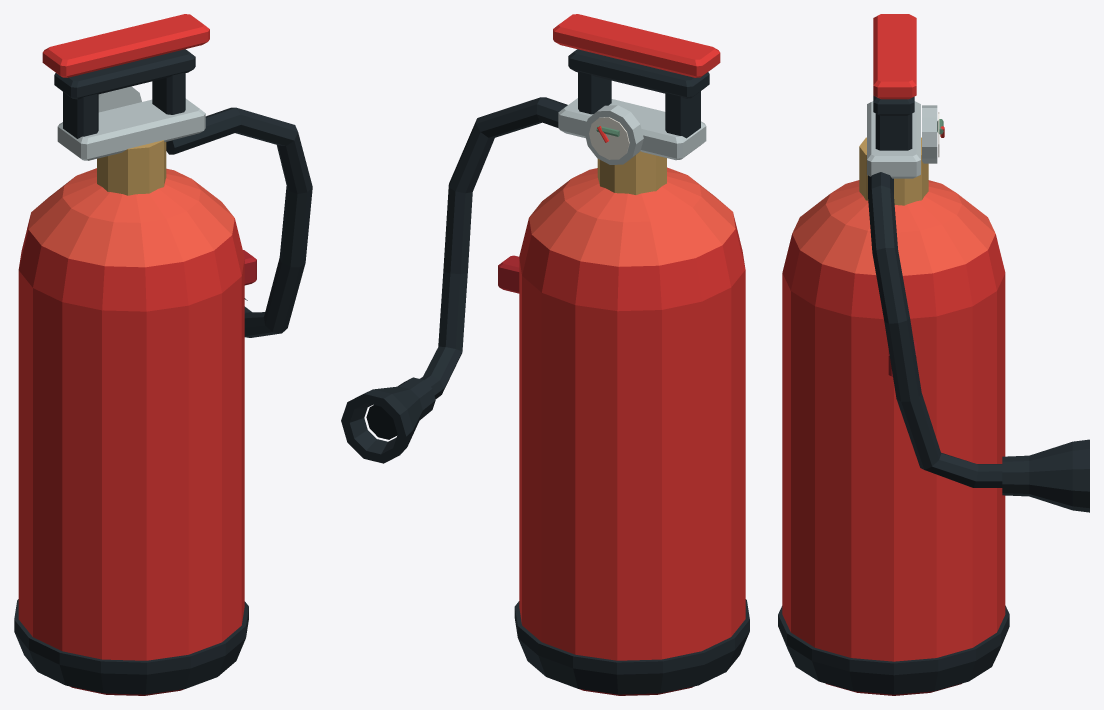
The model's file is fire-extinguisher.glb.
The picture shows the model from 3 angles, left to right: view 1: azimuth 30°, elevation 25°; view 2: azimuth 150°, elevation 25°; view 3: azimuth 270°, elevation 25°; orthographic projection. The views are drawn at different scales.
Parts seen in each view (by area): view 1: fire-extinguisher; view 2: fire-extinguisher; view 3: fire-extinguisher.
Part boxes in pixels (x1,y1,x2,y2): fire-extinguisher: [14, 14, 312, 695]; fire-extinguisher: [341, 14, 749, 695]; fire-extinguisher: [778, 14, 1089, 695].
Size of the model in its own units: 0.306 by 0.617 by 0.288.
1 material, 1 textured.
